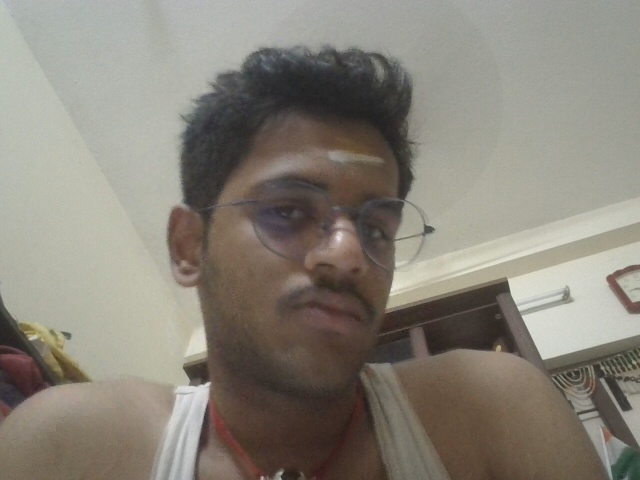real: (185, 112, 436, 363)
